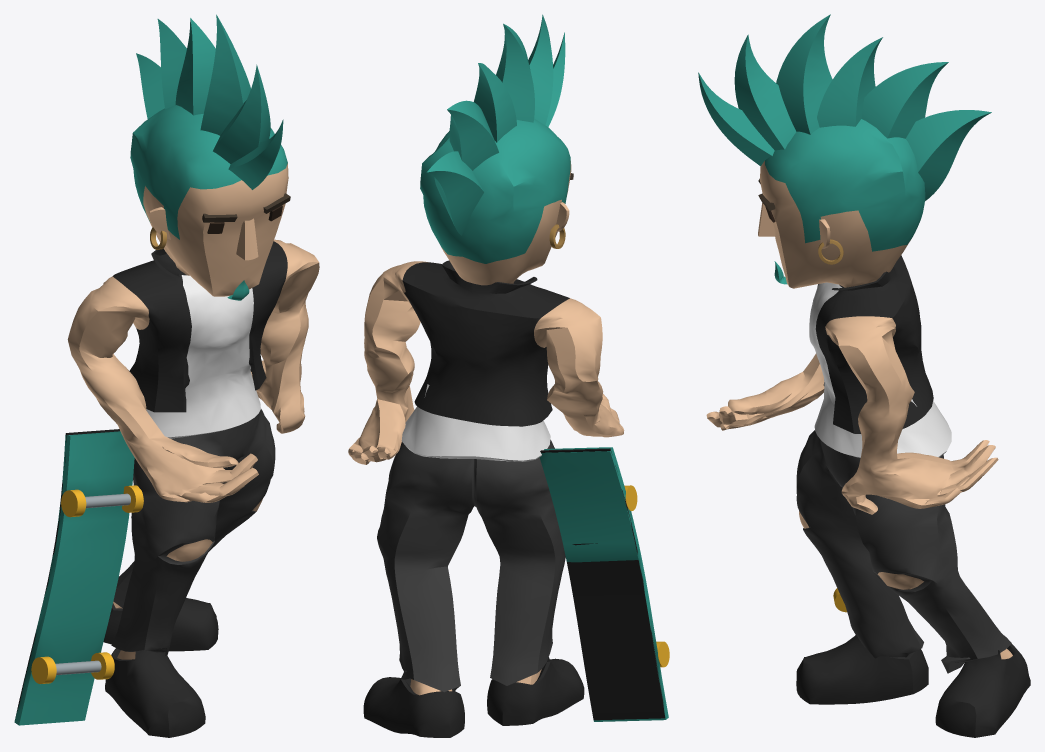
The model's file is av-skatista-praca.glb.
3 views of the same model, side by side, from view 1: azimuth 30°, elevation 25°; view 2: azimuth 150°, elevation 25°; view 3: azimuth 270°, elevation 25° (orthographic). The views are drawn at different scales.
Visible parts, largest first — view 1: Ad_skate_0_0; view 2: Ad_skate_0_0; view 3: Ad_skate_0_0.
Part boxes in pixels (<box>): Ad_skate_0_0: <box>14,14,319,737</box>; Ad_skate_0_0: <box>348,14,669,737</box>; Ad_skate_0_0: <box>698,14,1030,737</box>.
Bounding box in the file's own units: 0.7136 × 1.56 × 0.6691.
1 material, 1 textured.
